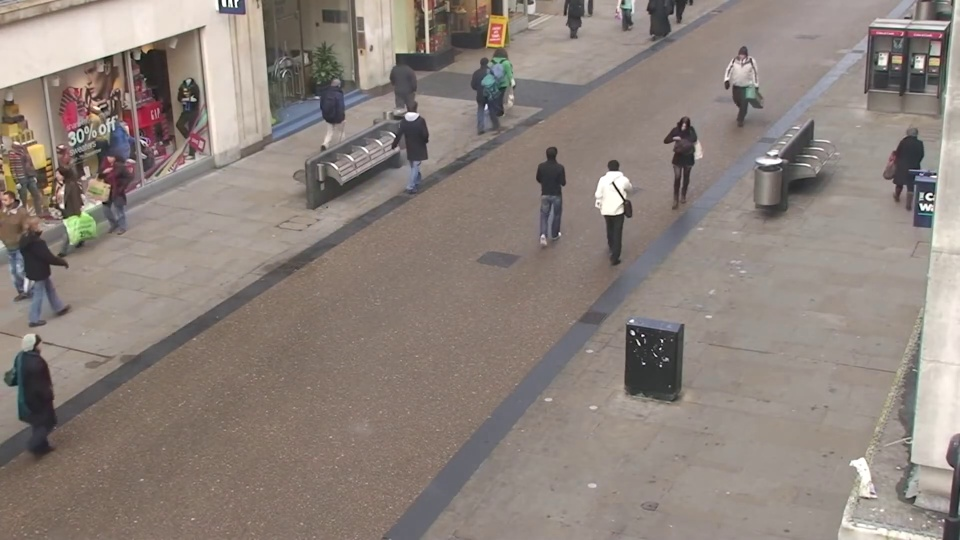pedestrian: (22, 320, 90, 469), (28, 212, 85, 330), (36, 165, 87, 271), (88, 150, 134, 252), (881, 120, 926, 220), (597, 150, 631, 255), (540, 137, 573, 239), (666, 118, 699, 215), (401, 91, 433, 180), (324, 71, 354, 153), (726, 46, 754, 124), (397, 53, 425, 130), (477, 53, 504, 131), (491, 45, 517, 120)
